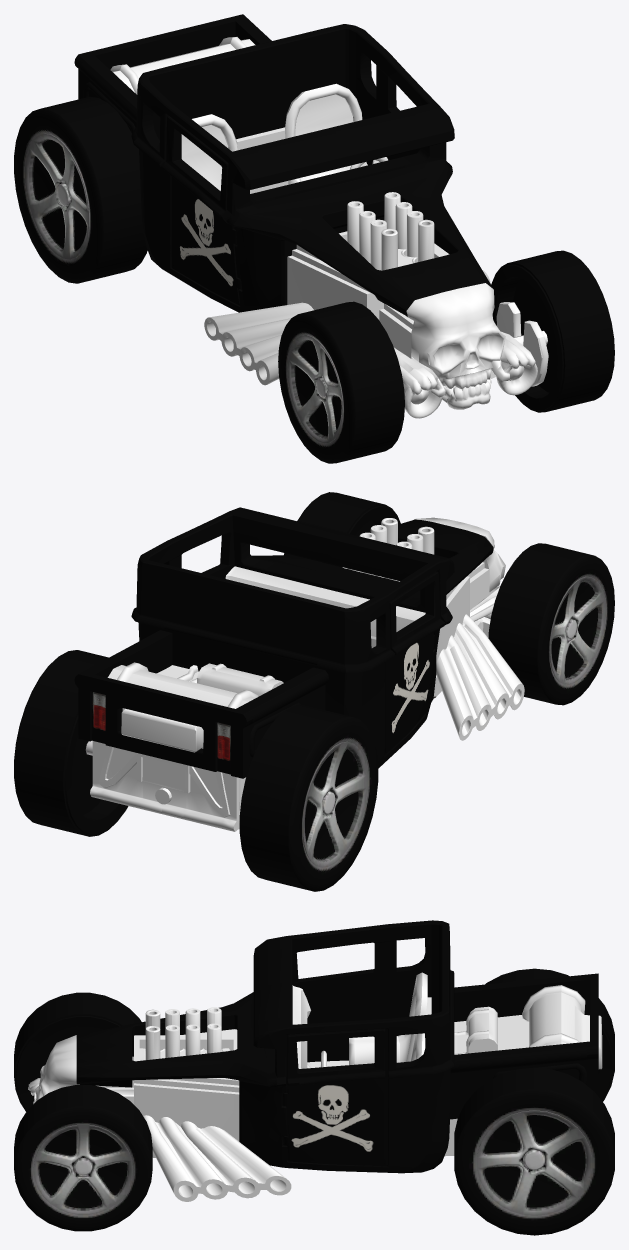
The model's file is boneshaker.glb.
3 views of the same model, one above another, from view 1: azimuth 30°, elevation 25°; view 2: azimuth 150°, elevation 25°; view 3: azimuth 270°, elevation 25° (orthographic). The views are drawn at different scales.
Visible parts, largest first — view 1: Mesh_0026_rip, Mesh_0027_rip_2, Mesh_0011_rip.001, Mesh_0009_rip.001, Mesh_0009_rip; view 2: Mesh_0026_rip, Mesh_0027_rip_2, Mesh_0011_rip.001, Mesh_0009_rip.001, Mesh_0011_rip, Mesh_0009_rip, Mesh_0025_rip; view 3: Mesh_0026_rip, Mesh_0027_rip_2, Mesh_0011_rip, Mesh_0009_rip, Mesh_0009_rip.001, Mesh_0011_rip.001.
Part boxes in pixels (left/top/right/bottom): Mesh_0026_rip: left=74, top=14, right=493, bottom=316; Mesh_0027_rip_2: left=110, top=37, right=548, bottom=418; Mesh_0011_rip.001: left=14, top=96, right=147, bottom=283; Mesh_0009_rip.001: left=278, top=301, right=404, bottom=463; Mesh_0009_rip: left=491, top=250, right=614, bottom=412; Mesh_0026_rip: left=74, top=507, right=493, bottom=778; Mesh_0027_rip_2: left=85, top=517, right=524, bottom=831; Mesh_0011_rip.001: left=239, top=705, right=378, bottom=891; Mesh_0009_rip.001: left=488, top=543, right=614, bottom=705; Mesh_0011_rip: left=14, top=650, right=128, bottom=836; Mesh_0009_rip: left=284, top=492, right=400, bottom=555; Mesh_0025_rip: left=91, top=691, right=230, bottom=772; Mesh_0026_rip: left=76, top=920, right=598, bottom=1173; Mesh_0027_rip_2: left=28, top=972, right=602, bottom=1201; Mesh_0011_rip: left=454, top=1067, right=614, bottom=1235; Mesh_0009_rip: left=14, top=1085, right=152, bottom=1231; Mesh_0009_rip.001: left=14, top=992, right=141, bottom=1111; Mesh_0011_rip.001: left=485, top=968, right=614, bottom=1101.
Bounding box in the file's own units: 2.19 × 1.72 × 4.51.
1 material, 1 textured.
